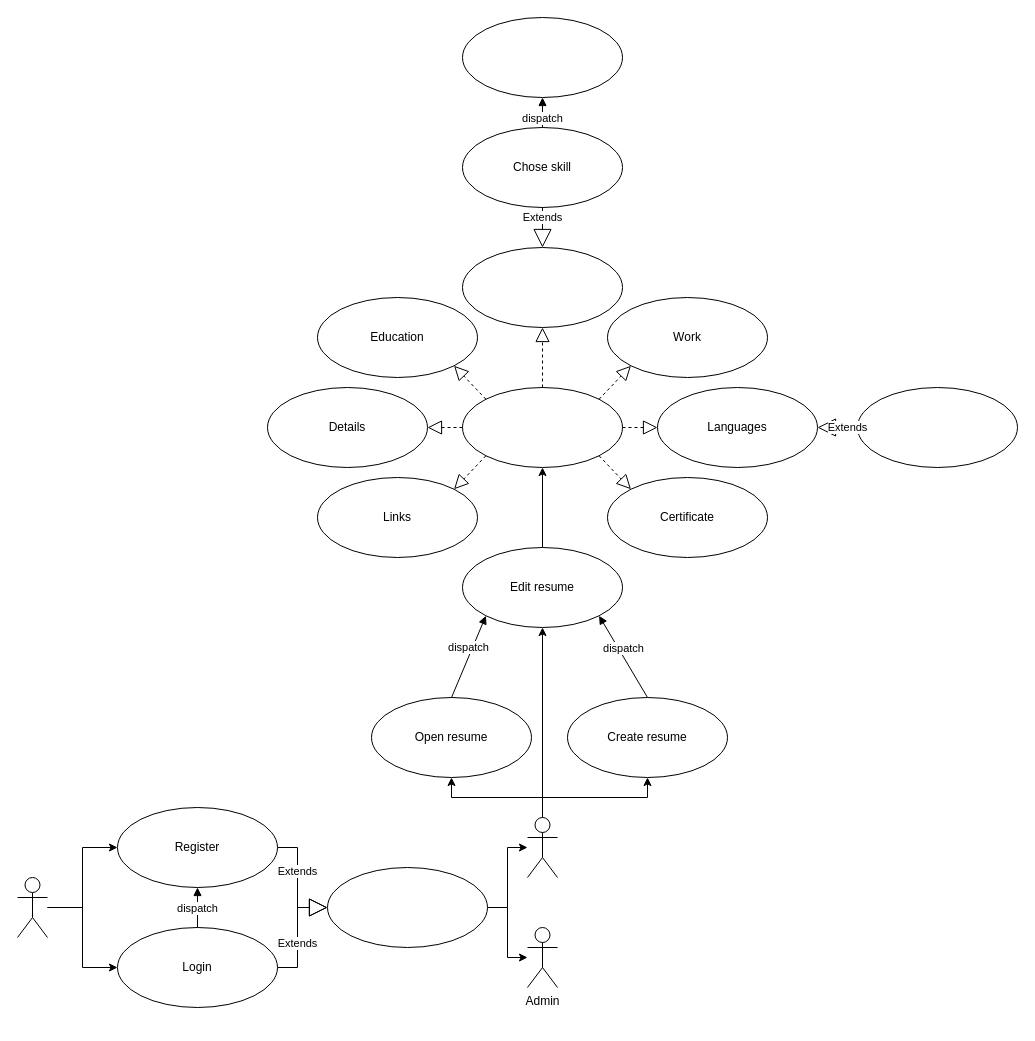
Image size: 1035x1041. Some labels were removed from this diagram. Each missing label, with the box of its shape:
Actor: (16, 876, 48, 938)
Authorize: (326, 866, 488, 948)
Chose language: (856, 386, 1018, 468)
Create skill: (462, 16, 622, 98)
Edit menu: (462, 386, 622, 468)
Skills: (462, 246, 622, 328)
User: (526, 816, 558, 878)
